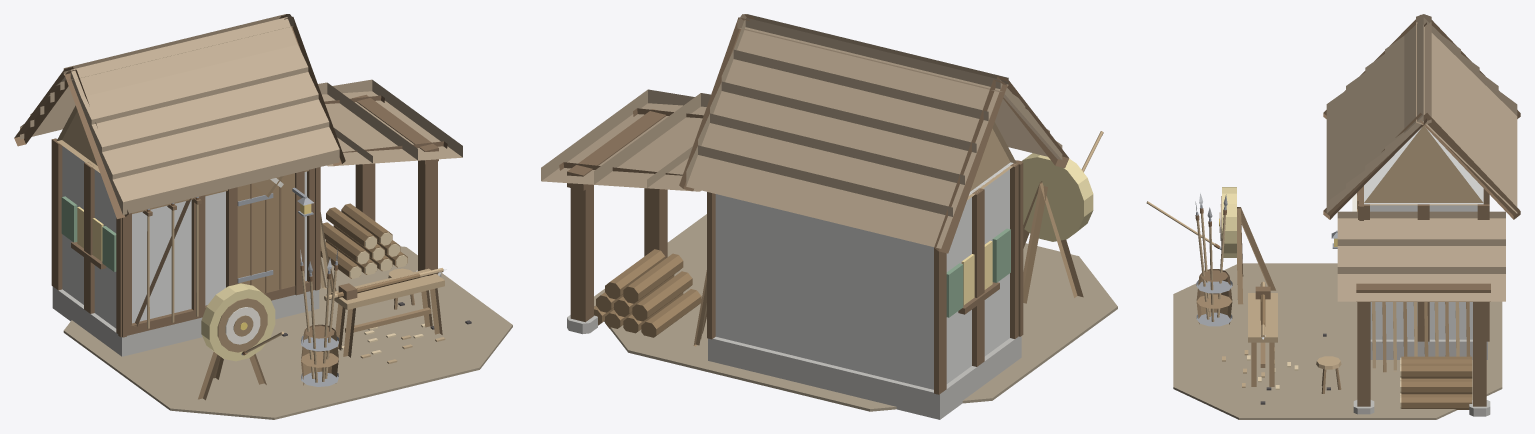
File: spear_maker.glb
The picture shows the model from 3 angles, left to right: view 1: azimuth 30°, elevation 25°; view 2: azimuth 150°, elevation 25°; view 3: azimuth 270°, elevation 25°; orthographic projection. The views are drawn at different scales.
Visible parts, largest first — view 1: Ground, Walls, Roof, Roof#2, Roof#4, Roof#3, Roof#5, Door, Plinth, Lean.Roof#2, Lean.Roof, Target (+32 smaller); view 2: Walls, Ground, Roof#6, Roof#7, Roof#9, Roof#8, Plinth, Roof#10, Lean.Roof#2, Target, Lean.Roof, Lean.Post (+25 smaller); view 3: Ground, Gable#2, Lean.Roof#2, Lean.Roof, Lean.Roof#3, Walls, Roof, Roof#2, Roof#3, Roof#4, Roof#6, Roof#7 (+24 smaller).
Part boxes in pixels (bbox=[...]): Ground: bbox=[63, 239, 512, 419]; Walls: bbox=[62, 146, 306, 328]; Roof: bbox=[112, 127, 339, 214]; Roof#2: bbox=[102, 99, 329, 187]; Roof#4: bbox=[81, 44, 308, 132]; Roof#3: bbox=[91, 72, 318, 159]; Roof#5: bbox=[70, 17, 297, 104]; Door: bbox=[237, 173, 294, 293]; Plinth: bbox=[52, 286, 319, 356]; Lean.Roof#2: bbox=[318, 82, 417, 163]; Lean.Roof: bbox=[332, 79, 462, 160]; Target: bbox=[201, 283, 275, 361]; Walls: bbox=[715, 162, 1013, 389]; Ground: bbox=[594, 214, 1117, 411]; Roof#6: bbox=[686, 145, 952, 248]; Roof#7: bbox=[698, 113, 964, 216]; Roof#9: bbox=[721, 49, 988, 152]; Roof#8: bbox=[710, 81, 976, 184]; Plinth: bbox=[708, 336, 1021, 419]; Roof#10: bbox=[733, 18, 1000, 120]; Lean.Roof#2: bbox=[594, 93, 710, 188]; Target: bbox=[1022, 153, 1093, 241]; Lean.Roof: bbox=[541, 89, 694, 184]; Lean.Post: bbox=[570, 167, 593, 322]; Ground: bbox=[1173, 263, 1502, 419]; Gable#2: bbox=[1364, 125, 1483, 205]; Lean.Roof#2: bbox=[1337, 239, 1505, 266]; Lean.Roof: bbox=[1337, 267, 1505, 301]; Lean.Roof#3: bbox=[1337, 211, 1505, 239]; Walls: bbox=[1364, 127, 1483, 339]; Roof: bbox=[1326, 90, 1345, 213]; Roof#2: bbox=[1346, 72, 1365, 195]; Roof#3: bbox=[1365, 54, 1384, 177]; Roof#4: bbox=[1385, 36, 1404, 158]; Roof#6: bbox=[1498, 91, 1517, 213]; Roof#7: bbox=[1479, 72, 1498, 195].
Bounding box in the file's own units: 5.01 × 3.7 × 5.01.
